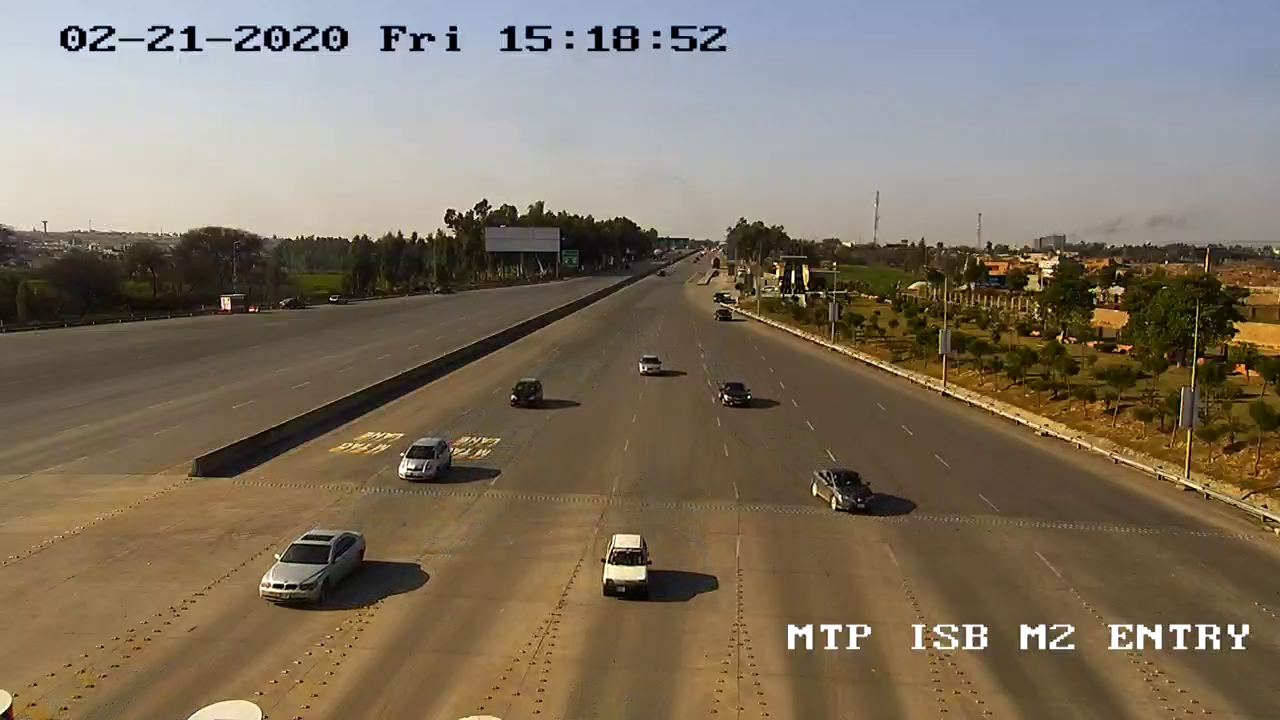f1: (253, 520, 373, 613), (593, 530, 661, 606), (805, 456, 885, 520), (390, 433, 461, 490), (711, 374, 762, 417), (506, 370, 553, 416)
